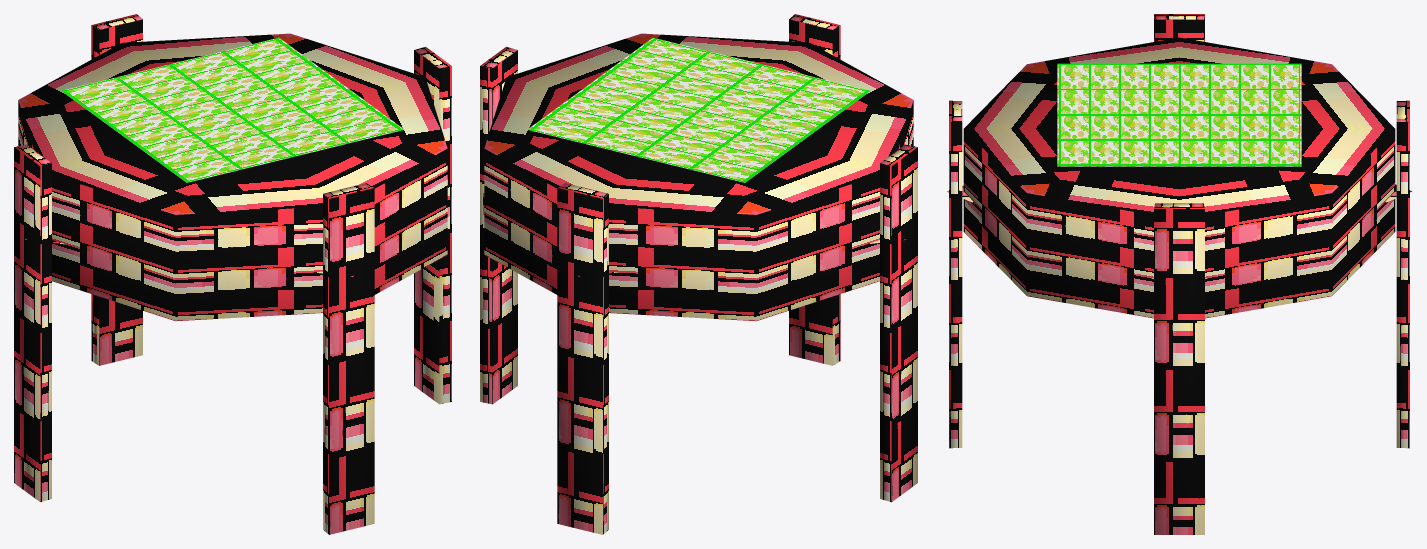
3 views of the same model, side by side, from view 1: azimuth 30°, elevation 25°; view 2: azimuth 150°, elevation 25°; view 3: azimuth 270°, elevation 25° (orthographic). The views are drawn at different scales.
Visible parts, largest first — view 1: 3665kg_ga_ta0; view 2: 3665kg_ga_ta0; view 3: 3665kg_ga_ta0.
Boxes of the visible parts, <box> form: 3665kg_ga_ta0: <box>14,14,451,534</box>; 3665kg_ga_ta0: <box>480,14,917,534</box>; 3665kg_ga_ta0: <box>947,14,1411,534</box>.
Bounding box in the file's own units: 0.9829 × 0.7585 × 0.9829.
2 materials, 2 textured.
